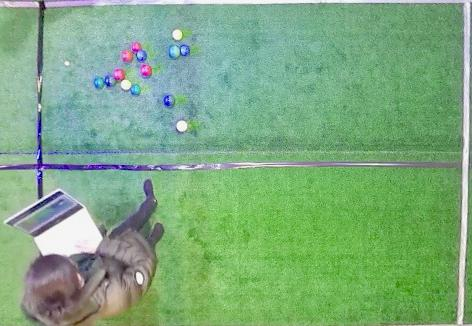blue: (136, 50, 147, 61), (180, 45, 189, 56)
green: (169, 46, 180, 58), (164, 95, 175, 107), (105, 75, 116, 87), (131, 84, 141, 96), (94, 77, 104, 89)
red: (122, 50, 134, 62), (114, 69, 126, 81), (176, 120, 187, 132), (141, 65, 152, 76), (132, 42, 142, 52)
vline: (1, 1, 45, 194), (455, 1, 471, 325)
white: (64, 61, 70, 66)
yellow: (172, 29, 182, 40), (121, 79, 131, 90)
